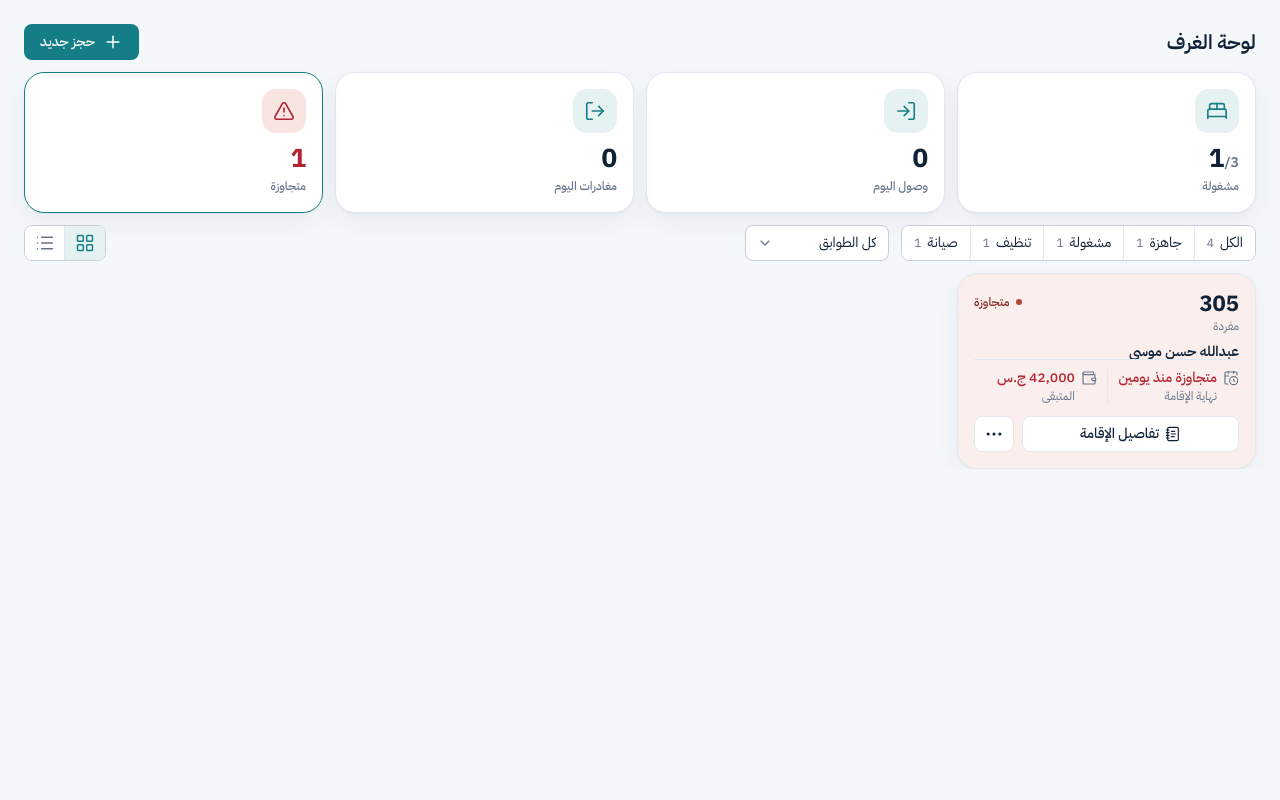
Test: overdue link, filters and the drawer
This screenshot has width=1280, height=800.
Check: the text "عبدالله حسن موسى" is shown, box [1129,340,1239,359]
Click the radio button labelled "صيانة 1": (937, 243) [902,226,971,260]
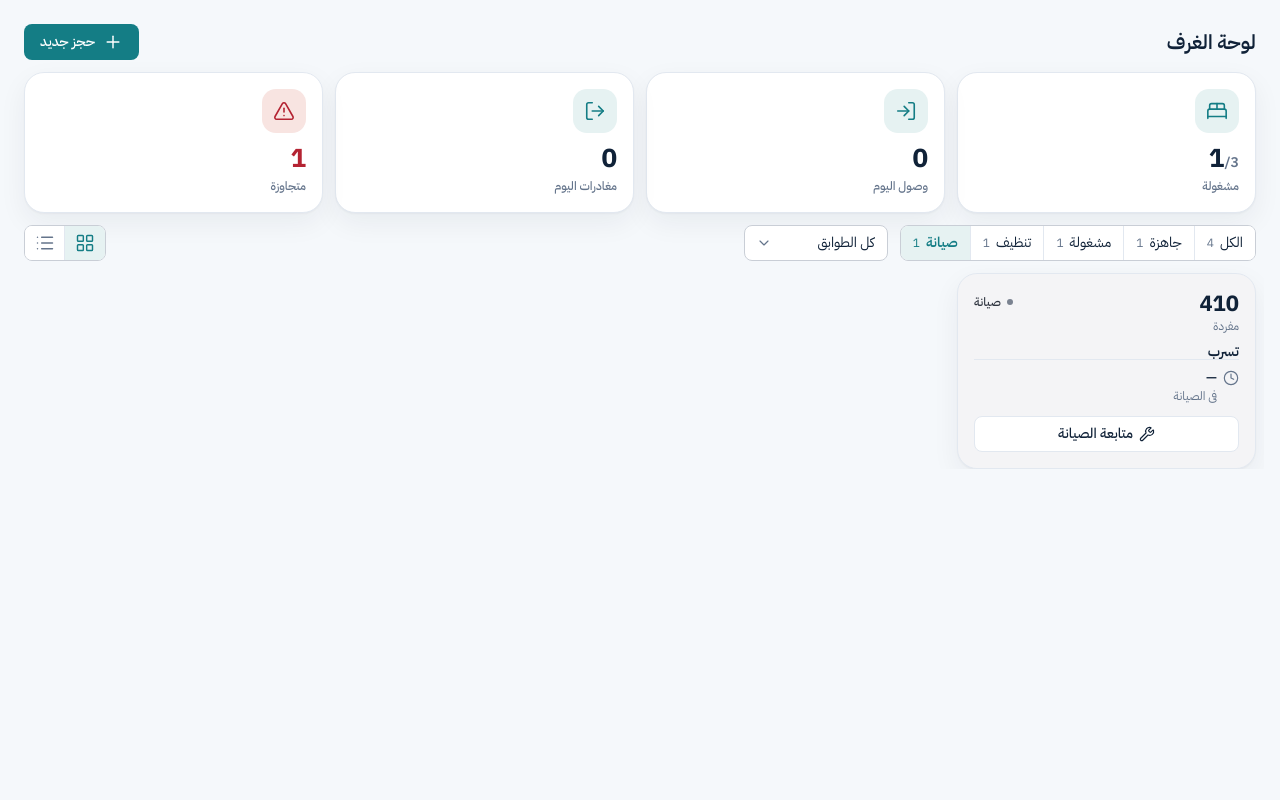
Select "الطابق 1" in the dropdown: (816, 243) [744,225,888,261]
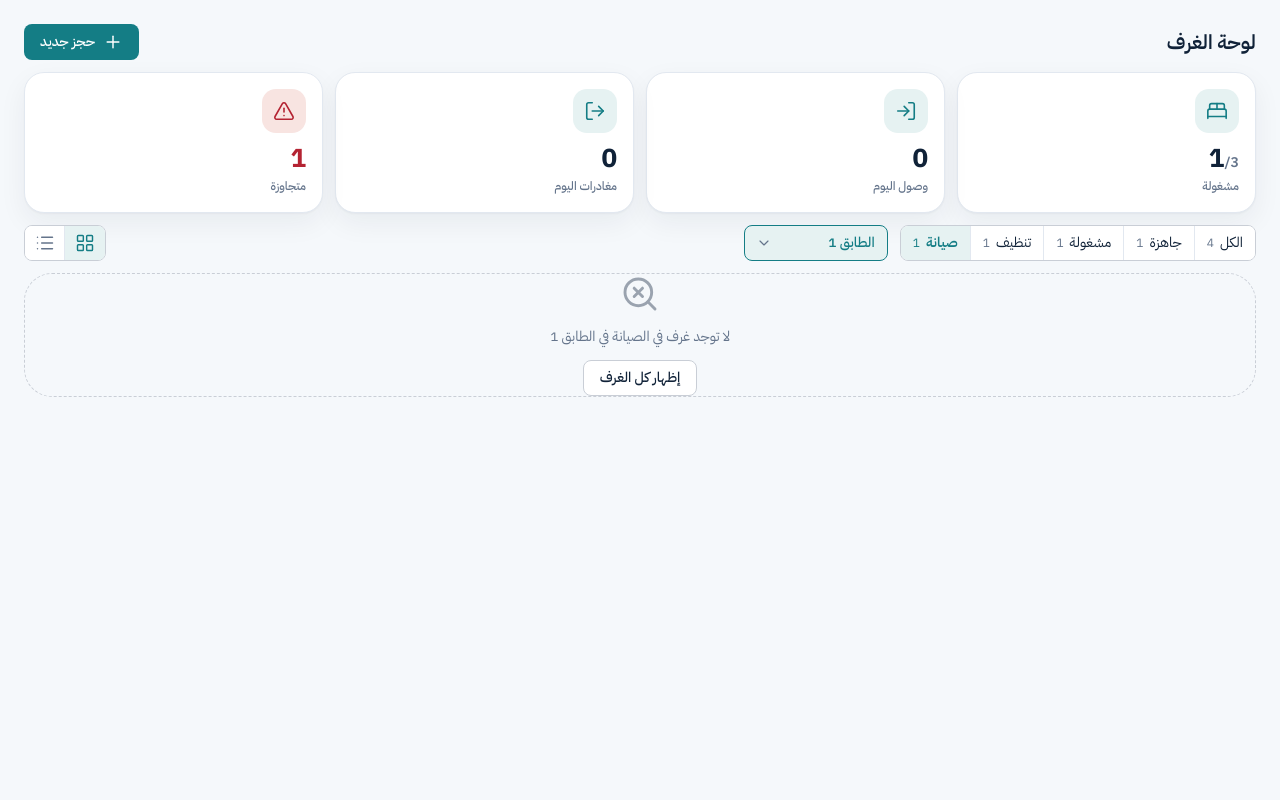
Check: the text "لا توجد غرف في الصيانة في الطابق 1" is shown, box [550,326,730,348]
Click the button "إظهار كل الغرف": (640, 378) [583,360,697,396]
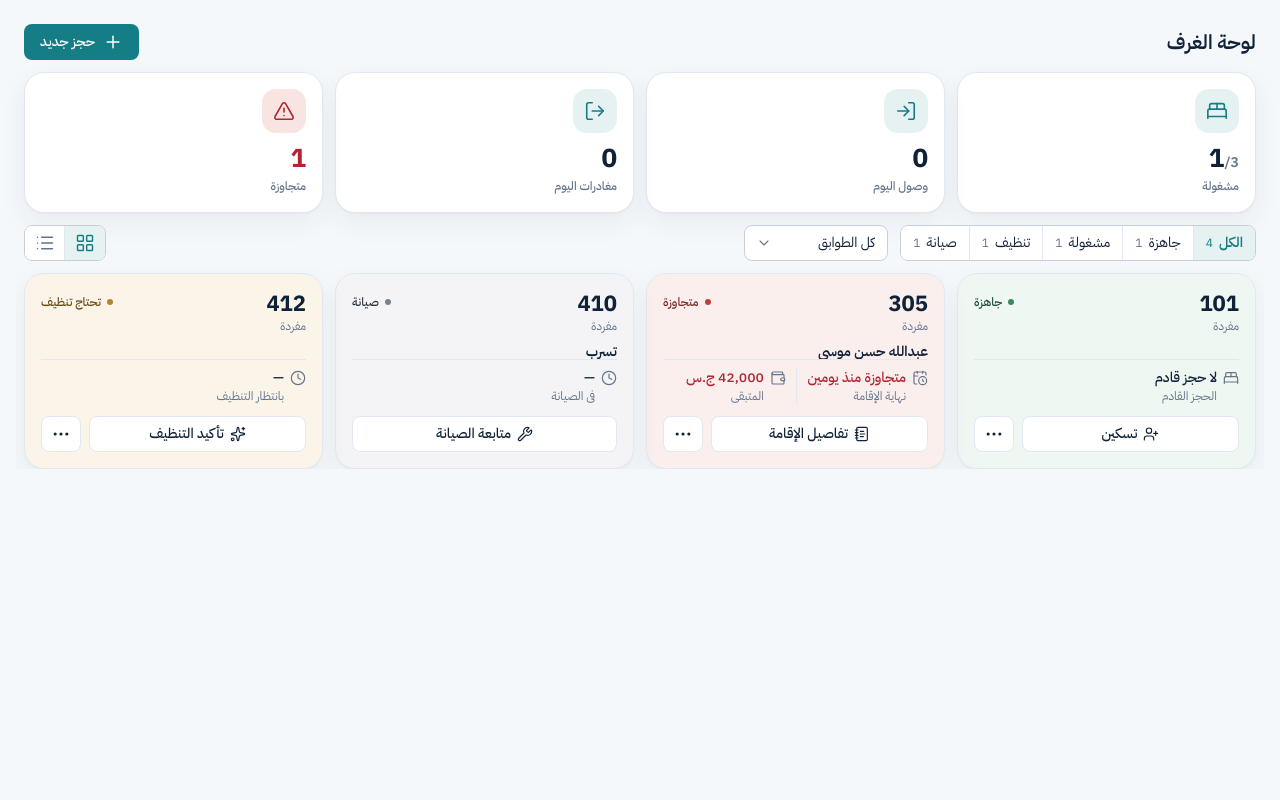
Click the button "305": (908, 304) [663,290,928,404]
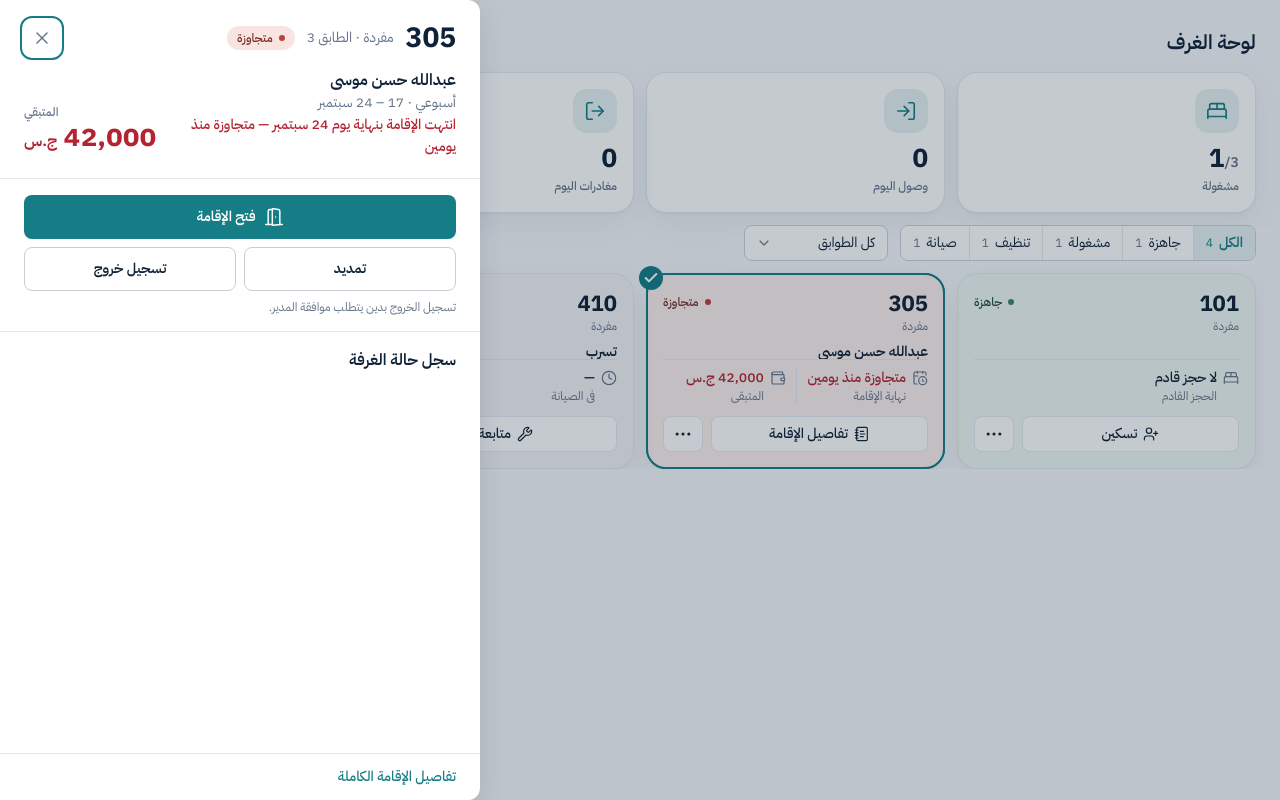
Check: the text "انتهت الإقامة بنهاية يوم 24 سبتمبر — متجاوزة منذ يومين" is shown, box [172,114,456,158]
Check: the text "تسجيل الخروج بدين يتطلب موافقة المدير." is shown, box [269,298,456,316]
Press Escape
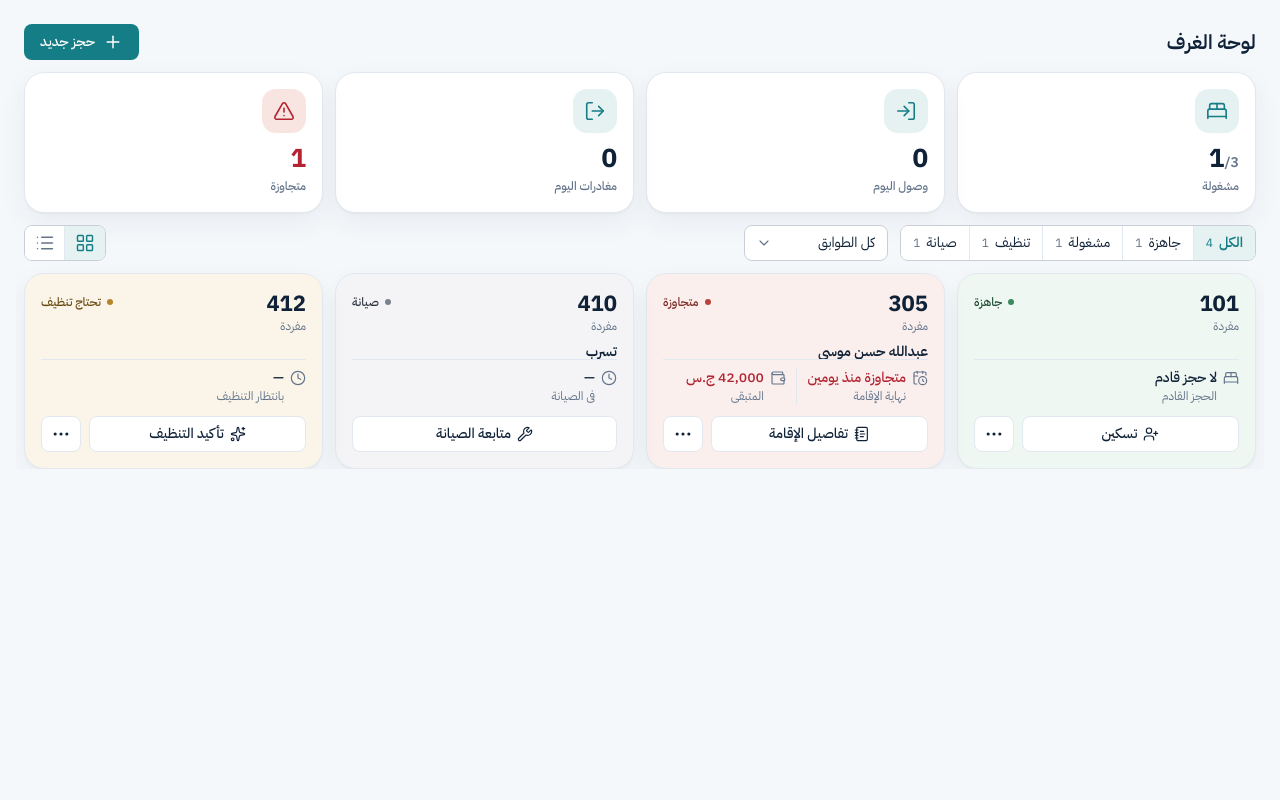
Check: the dialog is gone
